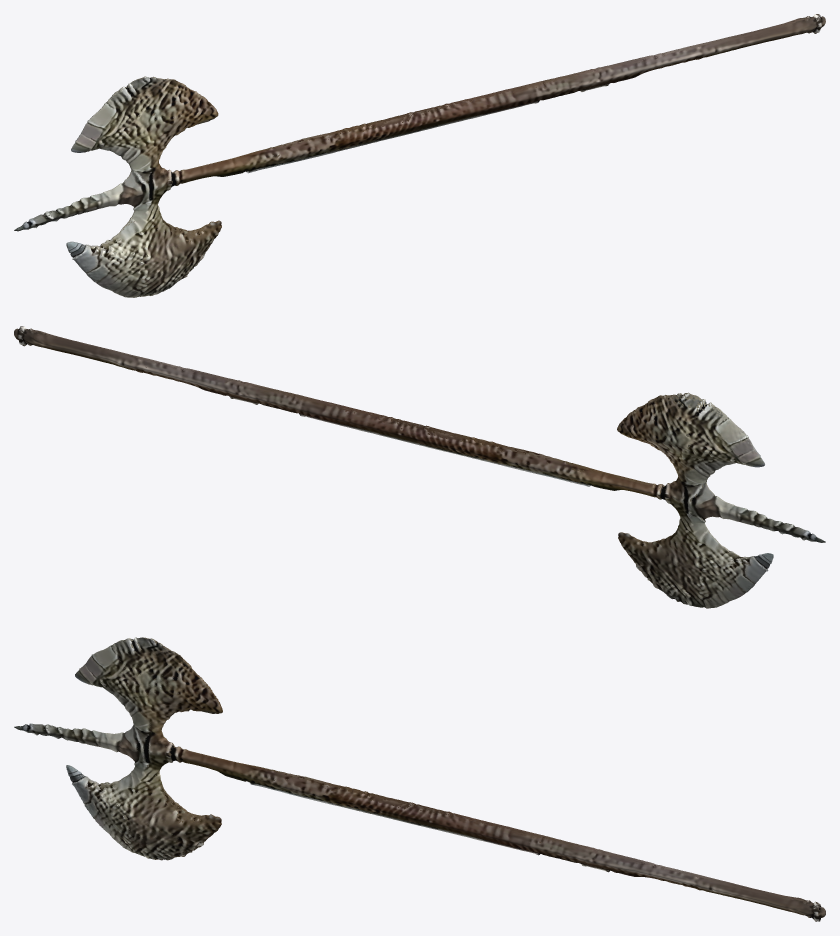
File: kfl-2182.glb
3 views of the same model, one above another, from view 1: azimuth 30°, elevation 25°; view 2: azimuth 150°, elevation 25°; view 3: azimuth 330°, elevation 25° (orthographic).
Parts seen in each view (by area): view 1: kfl-2182; view 2: kfl-2182; view 3: kfl-2182.
Part boxes in pixels (x1,y1,x2,y2): kfl-2182: (14, 14, 825, 297); kfl-2182: (14, 326, 825, 608); kfl-2182: (14, 637, 825, 921).
Bounding box in the file's own units: 0.9806 × 0.2501 × 0.051.
4 materials, 4 textured.
